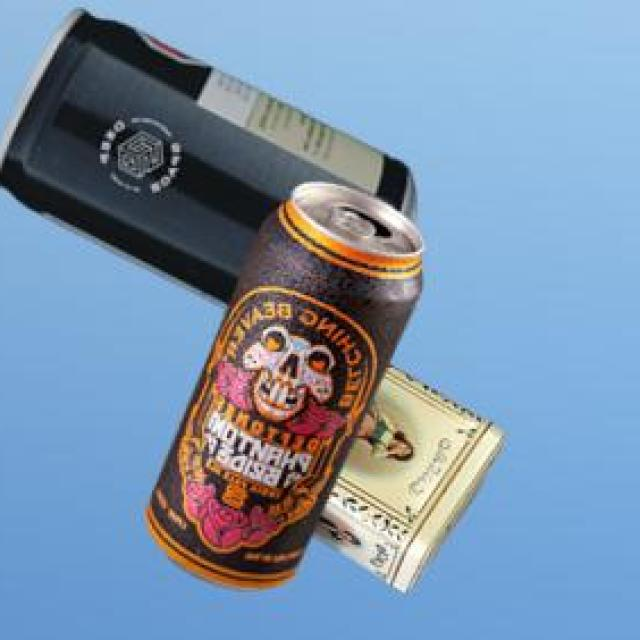logam: (0, 12, 412, 312), (142, 185, 421, 593), (308, 367, 500, 596)
